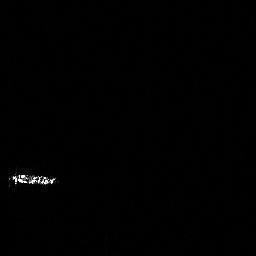ship: (1, 173, 71, 189)
